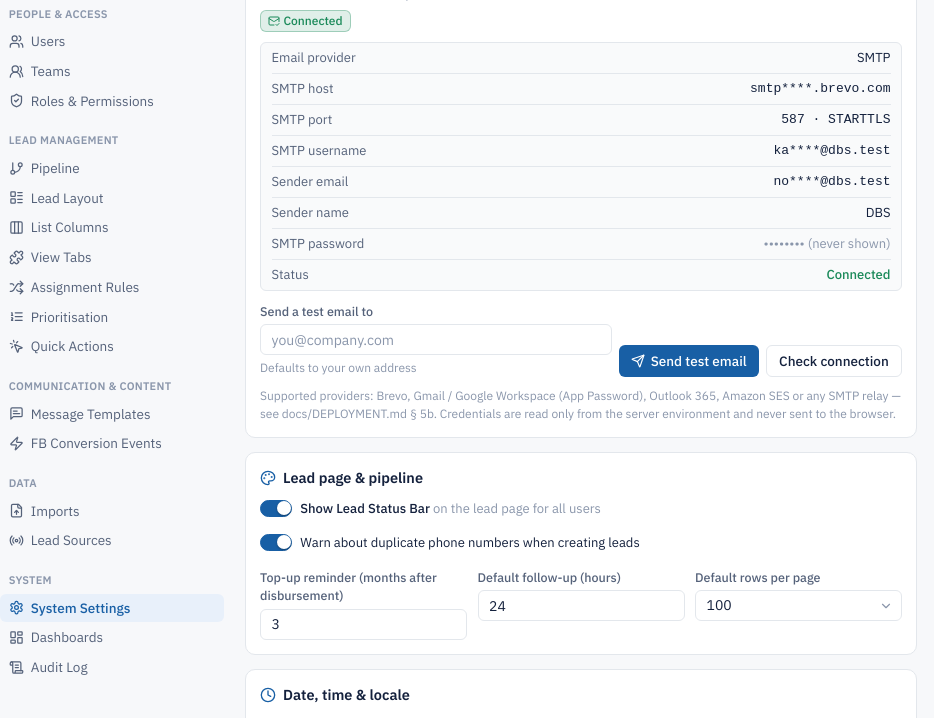
Test: administration › System Settings shows the masked Email Configuration with live status and a test button
The image size is (934, 718).
(page scrolled)
Expected: the text "smtp****.brevo.com" is shown, [750, 79, 890, 99]
Expected: the text "ka****@dbs.test" is shown, [774, 141, 890, 161]
Click the button "Send test email". click: [689, 361]
box: [619, 345, 759, 377]
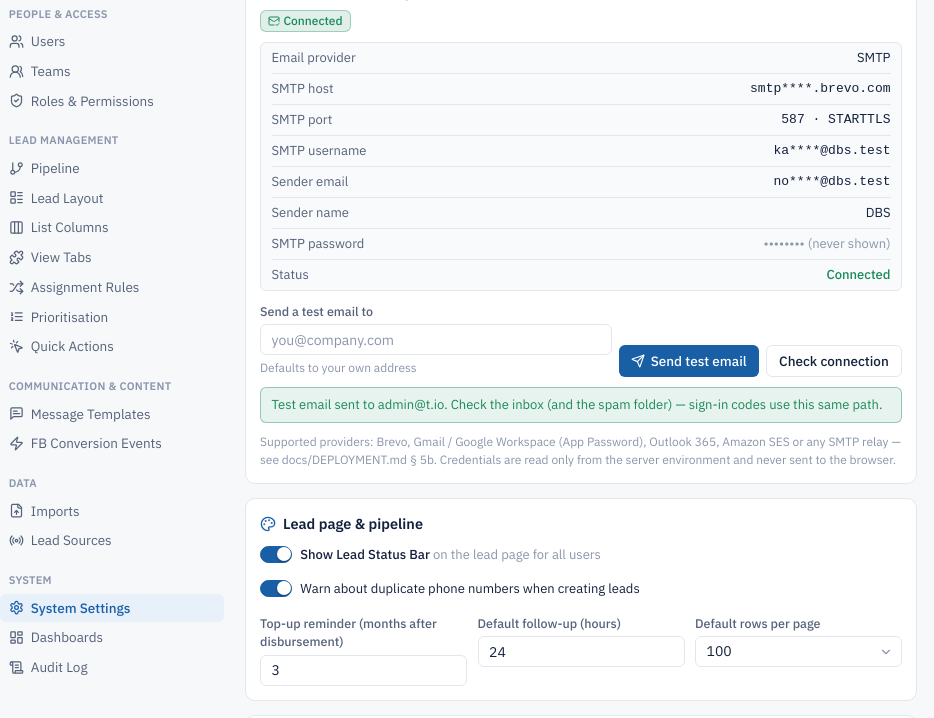
Now the text "Test email sent to" is shown, box [272, 396, 882, 413]
